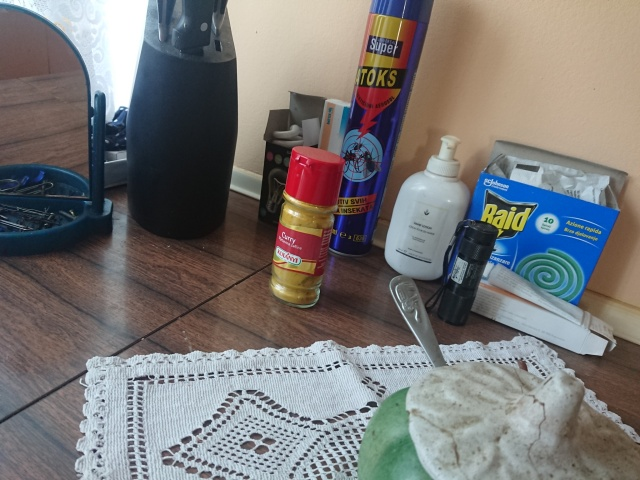Kotanyi Curry Spices Mix 70g: (267, 143, 348, 311)
